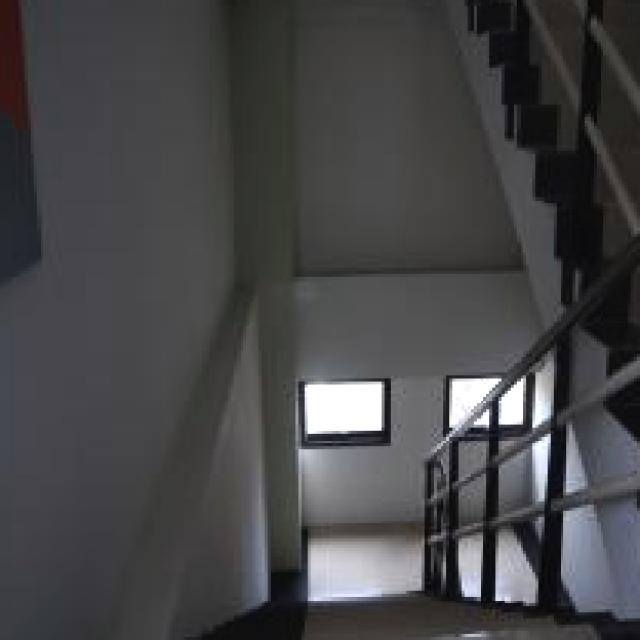downstair: (266, 601, 515, 640)
